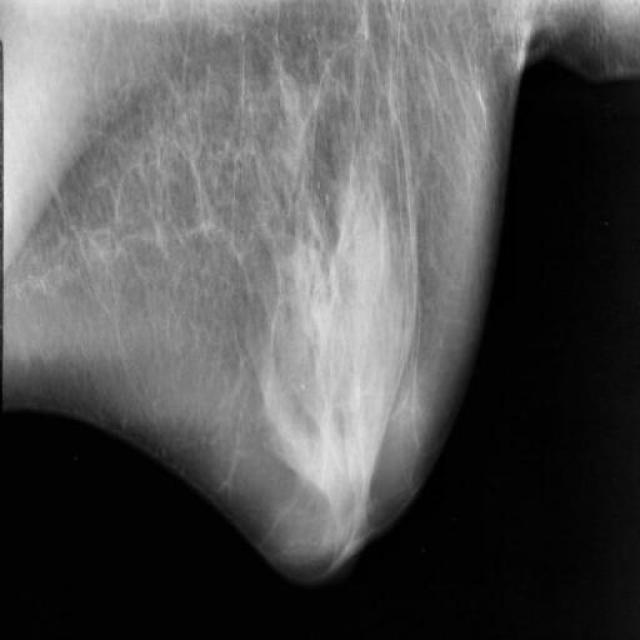cancer: (295, 338, 331, 417)
